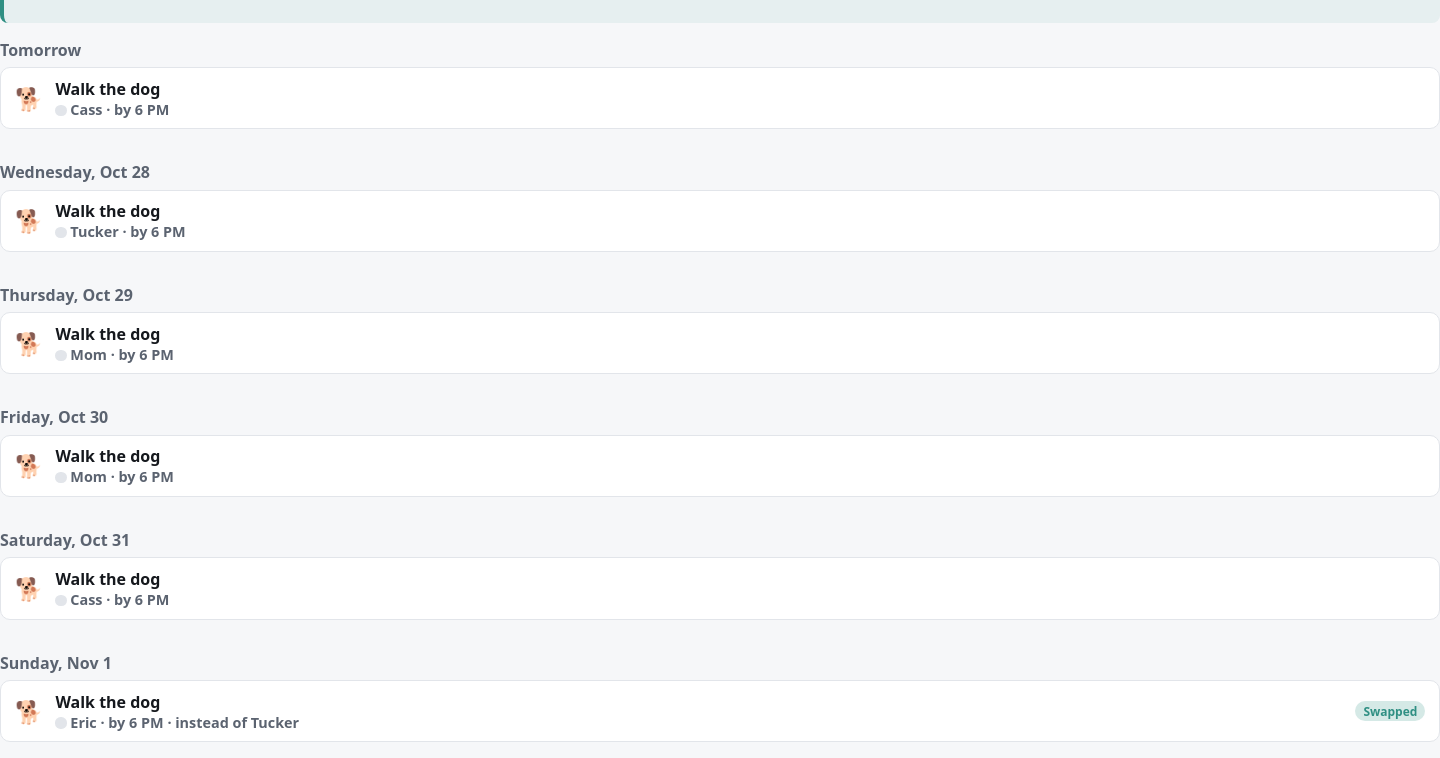
Test case: undoing a swap › a member asks; the panel says why when they can't
(page scrolled)
Click the button "🐕 Walk the dog Eric · by 6 PM · instead of Tucker Swapped" at (108, 702), box top-left (0, 680), bottom-right (1439, 742)
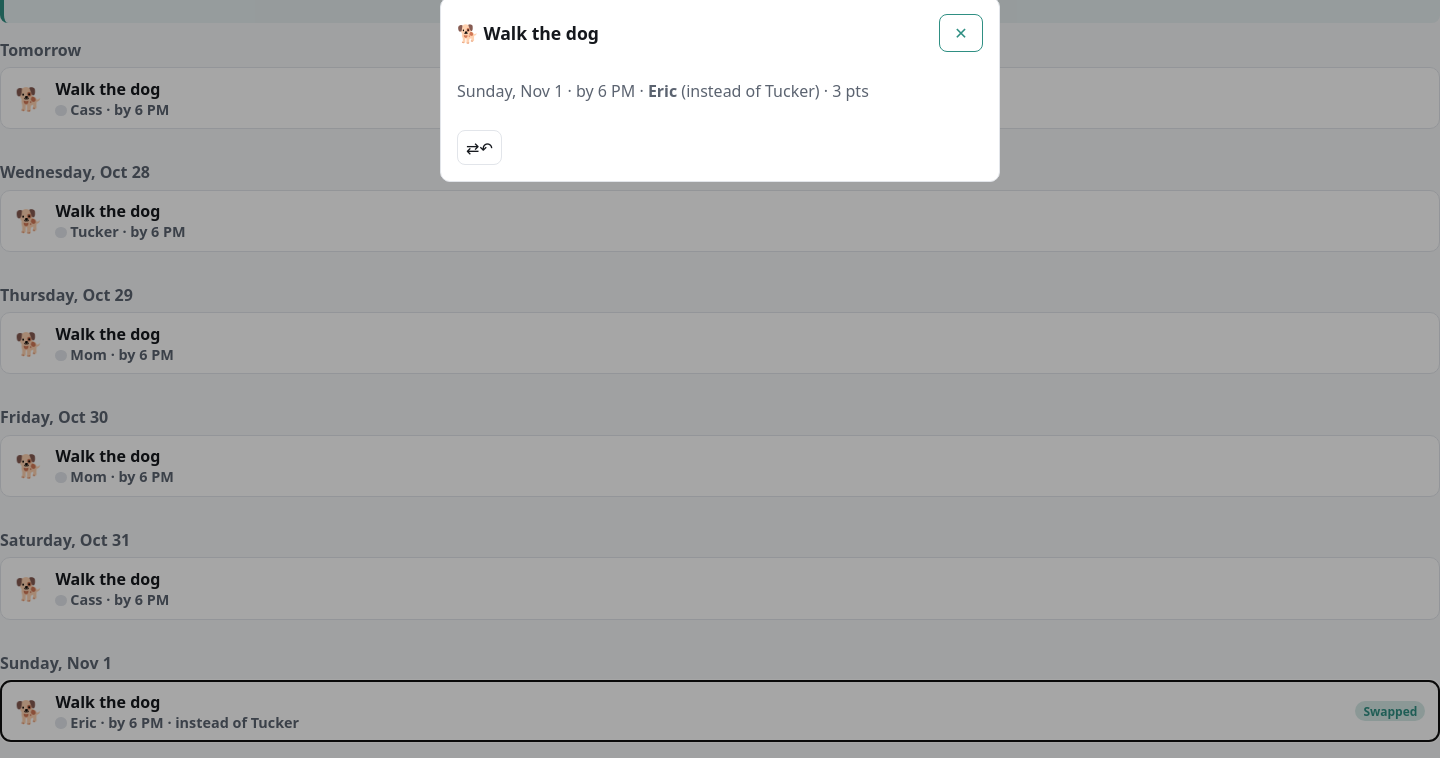
Click the button named "Ask to undo the swap" at (479, 148), box top-left (457, 130), bottom-right (502, 165)
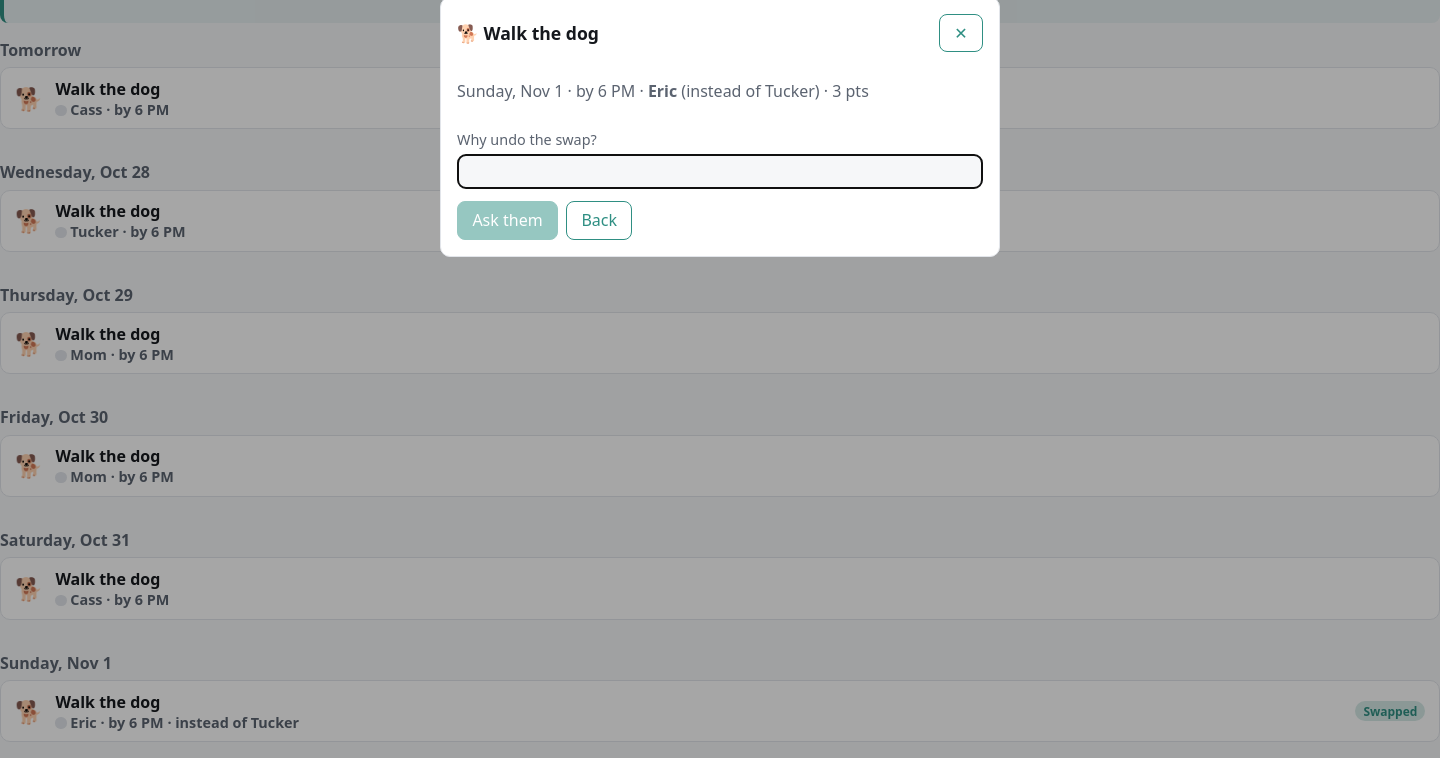
expect the field labelled "Why undo the swap?" is shown: met, box top-left (457, 154), bottom-right (983, 189)
